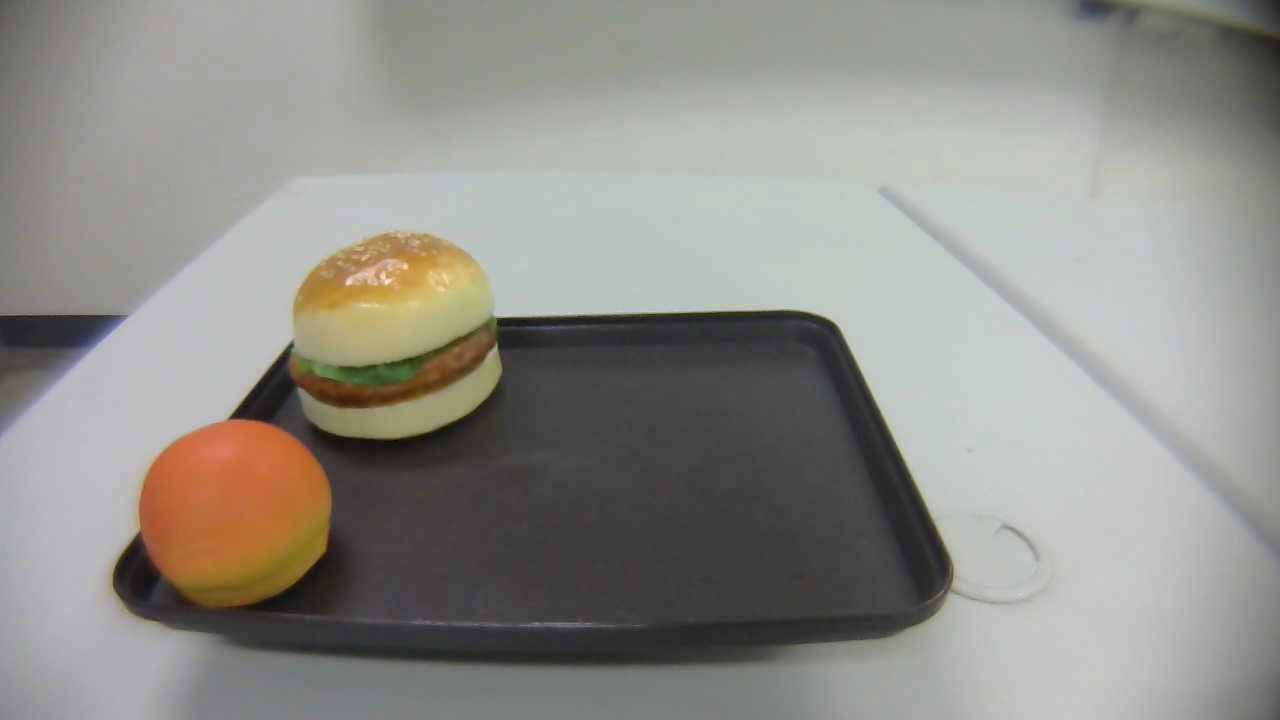bun: (139, 418, 332, 608)
hamburger: (287, 230, 506, 439)
